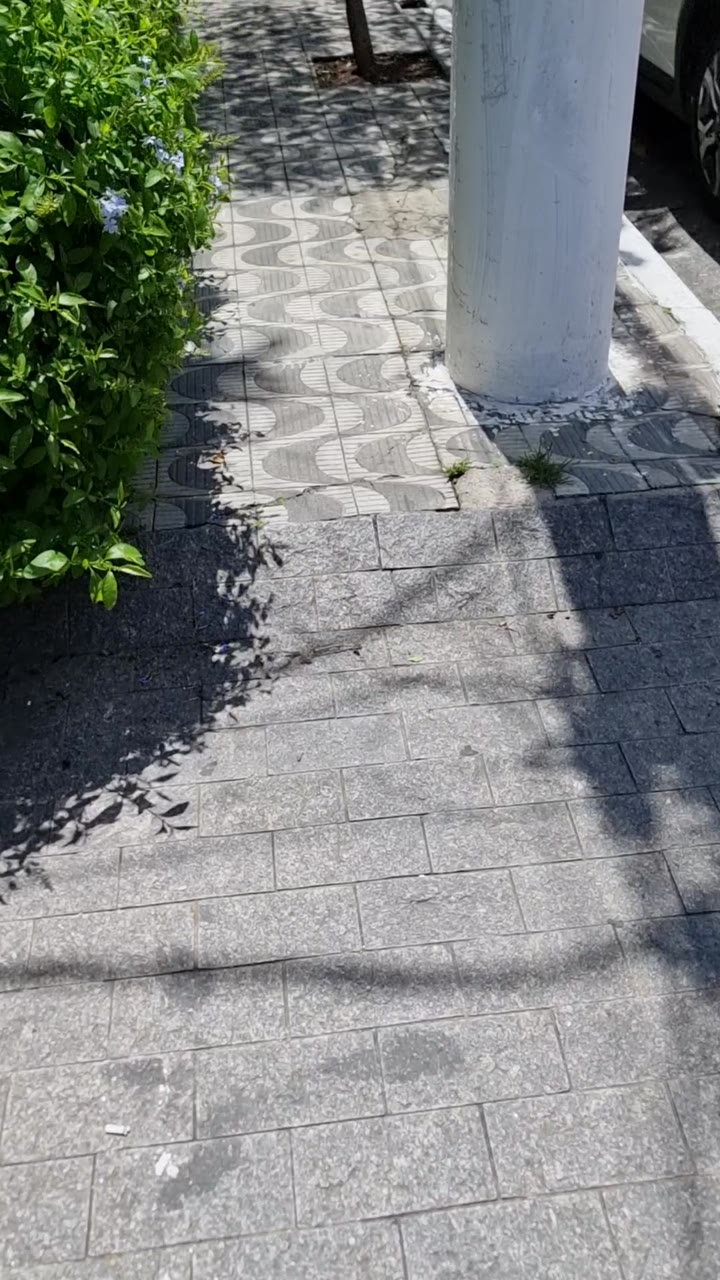obstaculo: (446, 0, 590, 397)
